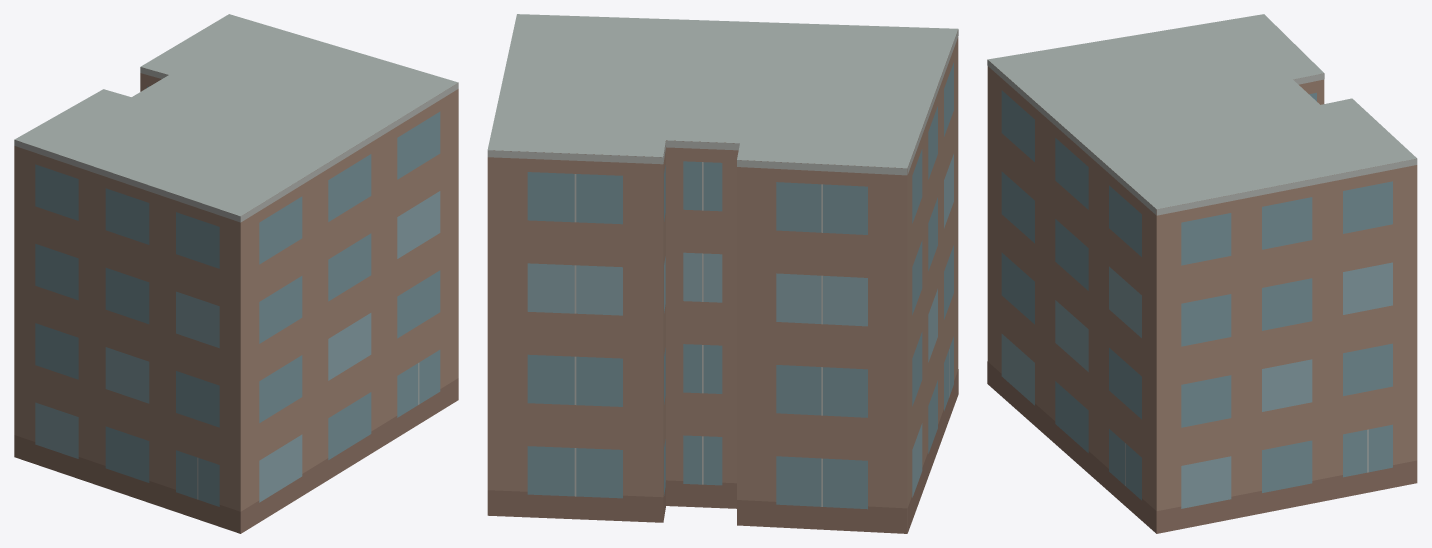
Rendered from survey-upis-32731814.glb.
3 renders of one model, left to right at view 1: azimuth 30°, elevation 25°; view 2: azimuth 150°, elevation 25°; view 3: azimuth 270°, elevation 25°, orthographic. The views are drawn at different scales.
Visible parts, largest first — view 1: survey-upis-32731814.tmp; view 2: survey-upis-32731814.tmp; view 3: survey-upis-32731814.tmp.
Boxes of the visible parts, x1=… form: survey-upis-32731814.tmp: x1=14, y1=14, x2=458, y2=533; survey-upis-32731814.tmp: x1=487, y1=14, x2=958, y2=533; survey-upis-32731814.tmp: x1=987, y1=14, x2=1417, y2=533.
Size of the model in its own units: 16.28 by 12.6 by 15.14.
